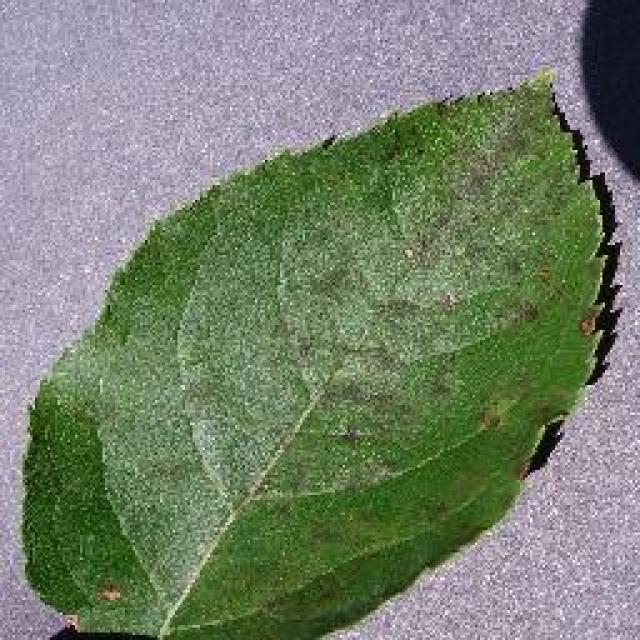apple scab disease: (15, 65, 623, 637)
